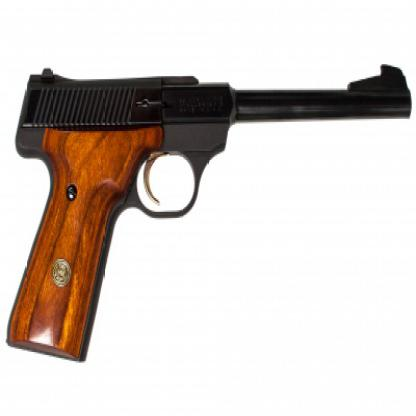Guns: (2, 59, 415, 366)
